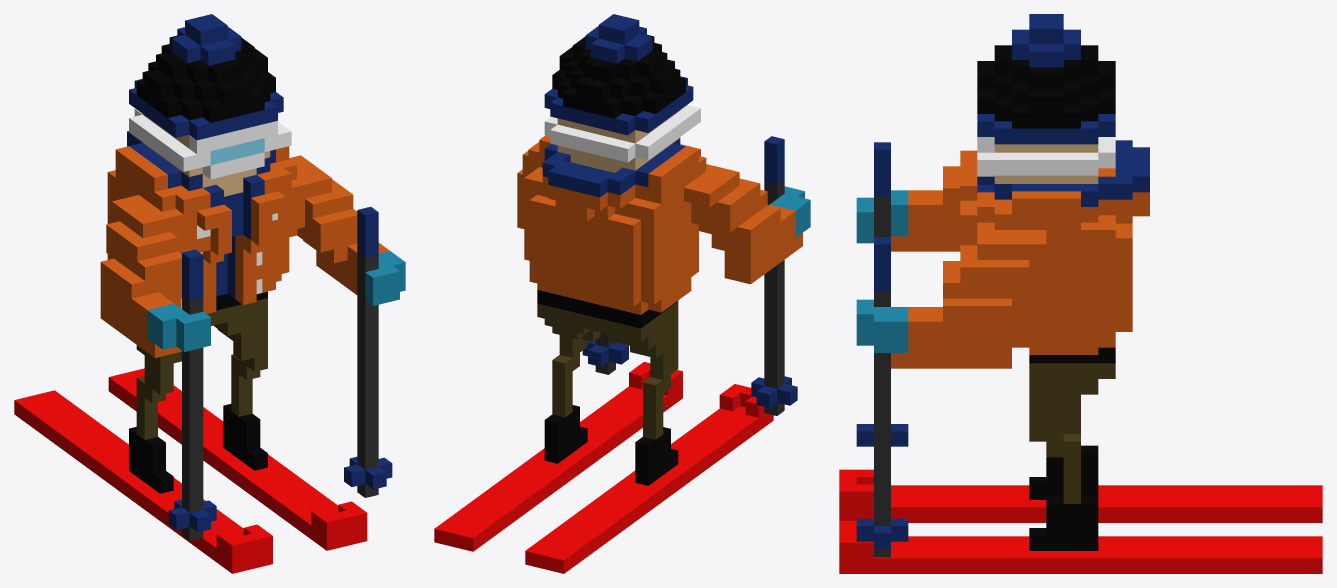
Rendered from Skieur_Frame_02.obj.
3 views of the same model, side by side, from view 1: azimuth 30°, elevation 25°; view 2: azimuth 150°, elevation 25°; view 3: azimuth 270°, elevation 25° (orthographic). The views are drawn at different scales.
Bounding box in the file's own units: 18 × 33 × 28.
1 material, 1 textured.
